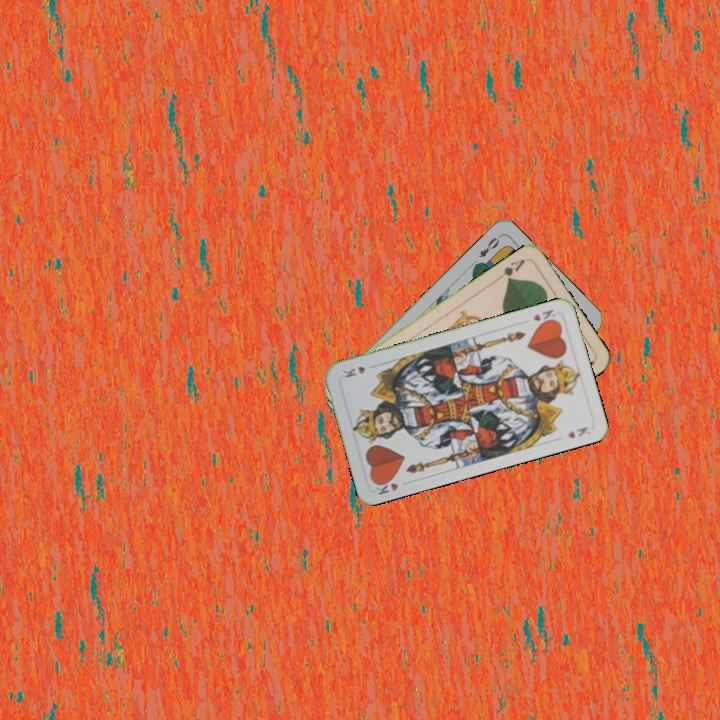EO: (475, 231, 503, 260)
GA: (493, 255, 527, 283)
HK: (529, 305, 560, 328), (371, 474, 401, 497)
